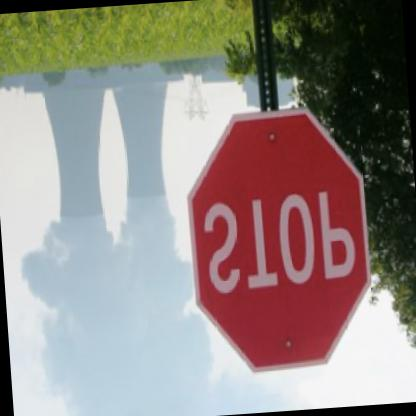stop: (179, 108, 379, 382)
